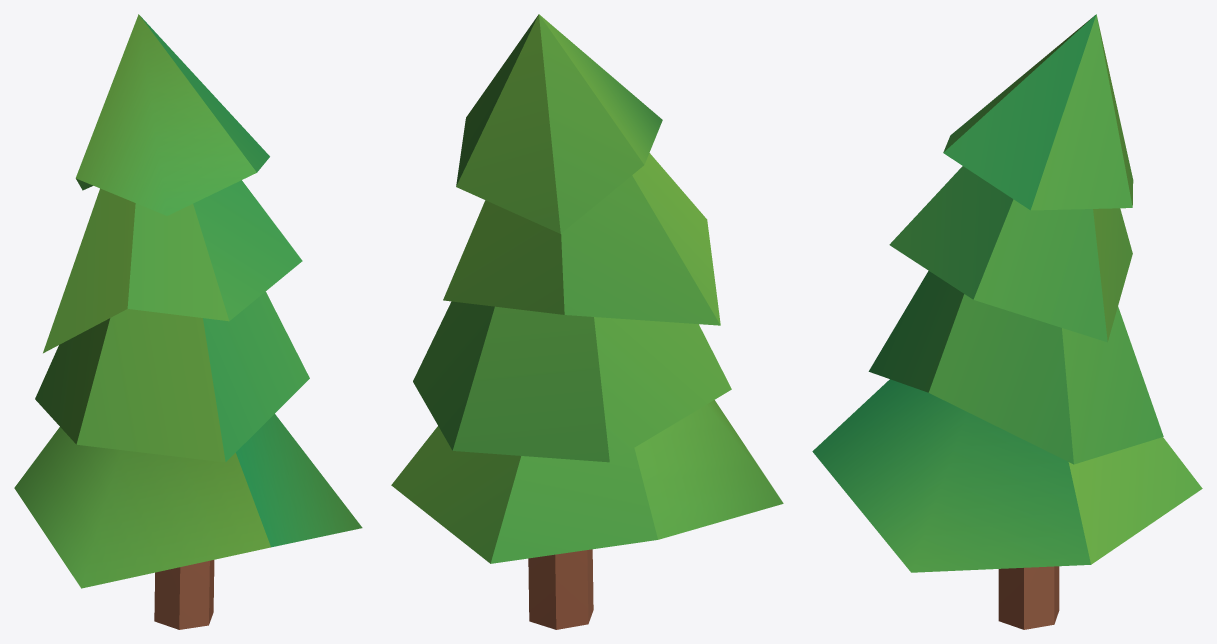
The model's file is PINO CLARO.fbx.
The picture shows the model from 3 angles, left to right: view 1: azimuth 30°, elevation 25°; view 2: azimuth 150°, elevation 25°; view 3: azimuth 270°, elevation 25°; orthographic projection. The views are drawn at different scales.
Parts seen in each view (by area): view 1: acampada.004; view 2: acampada.004; view 3: acampada.004.
Boxes of the visible parts, left/top/right/bottom form: acampada.004: left=14, top=14, right=362, bottom=629; acampada.004: left=391, top=14, right=783, bottom=629; acampada.004: left=812, top=14, right=1202, bottom=629.
Bounding box in the file's own units: 446 × 526 × 886.
1 material, 1 textured.
